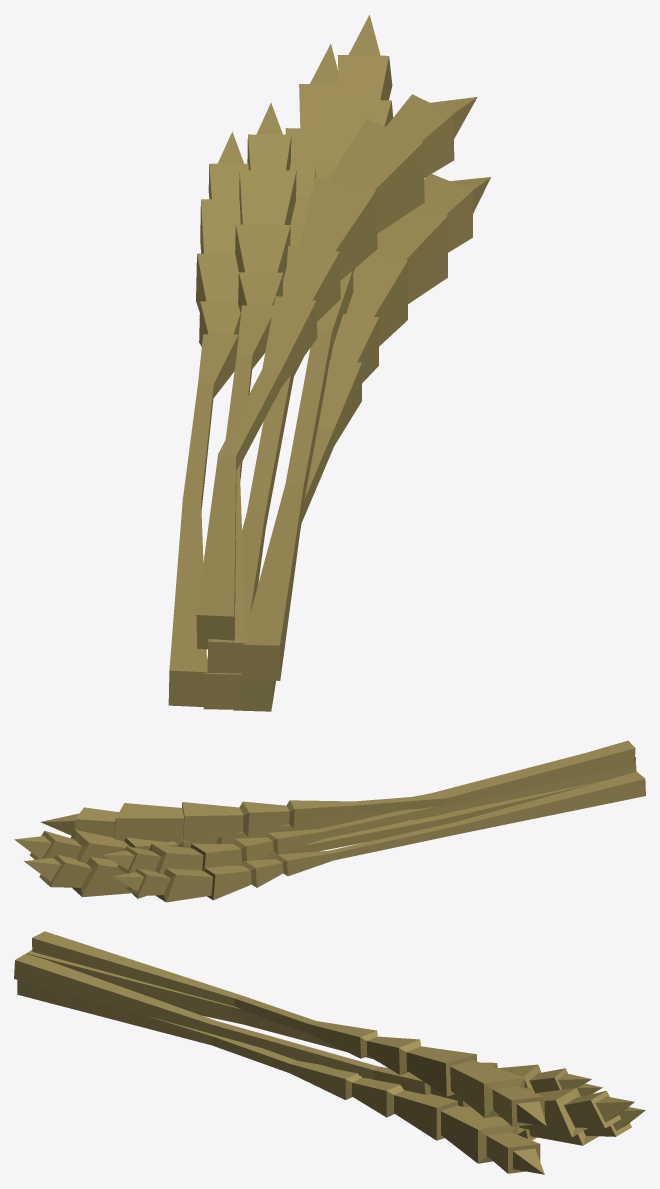
File: Wheat_Crop.glb
3 views of the same model, one above another, from view 1: azimuth 30°, elevation 25°; view 2: azimuth 150°, elevation 25°; view 3: azimuth 270°, elevation 25° (orthographic). The views are drawn at different scales.
Parts seen in each view (by area): view 1: Wheat_Crop; view 2: Wheat_Crop; view 3: Wheat_Crop.
Part boxes in pixels (<box>): Wheat_Crop: <box>168,15,490,711</box>; Wheat_Crop: <box>14,740,645,902</box>; Wheat_Crop: <box>14,931,645,1174</box>.
Size of the model in its own units: 0.5906 by 0.1048 by 0.7584.
